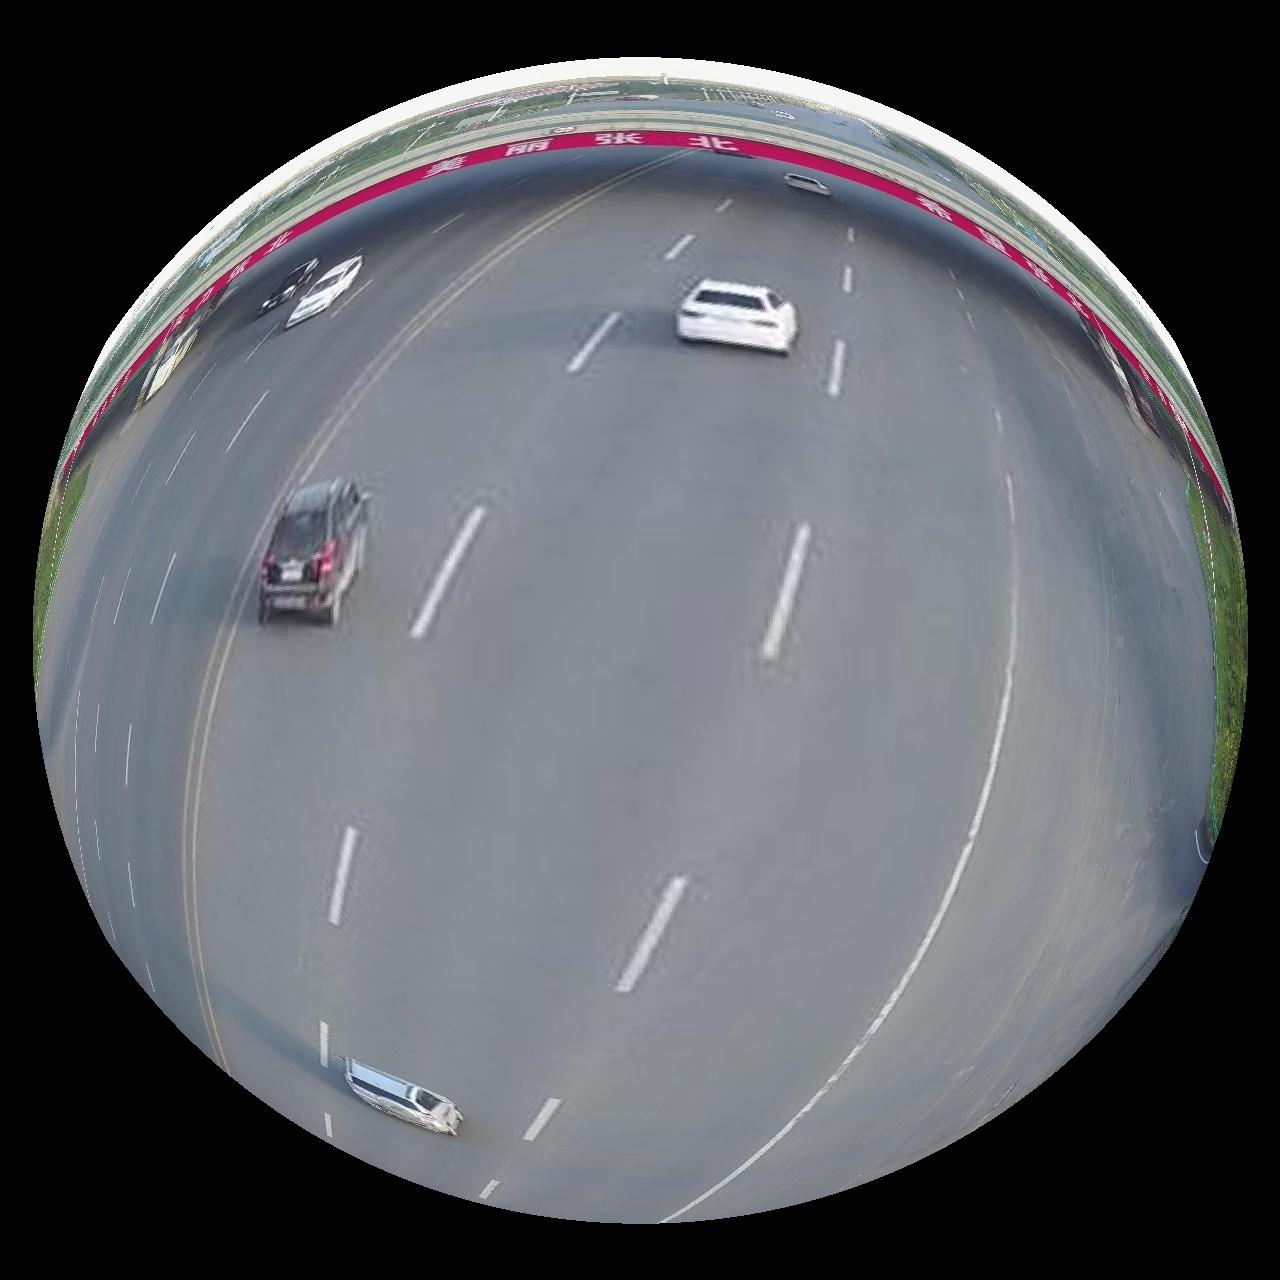cars: (258, 477, 368, 626), (678, 277, 799, 353), (343, 1061, 463, 1137), (284, 254, 362, 327), (257, 257, 319, 315), (784, 170, 833, 196)
trees: (1189, 468, 1250, 837)
